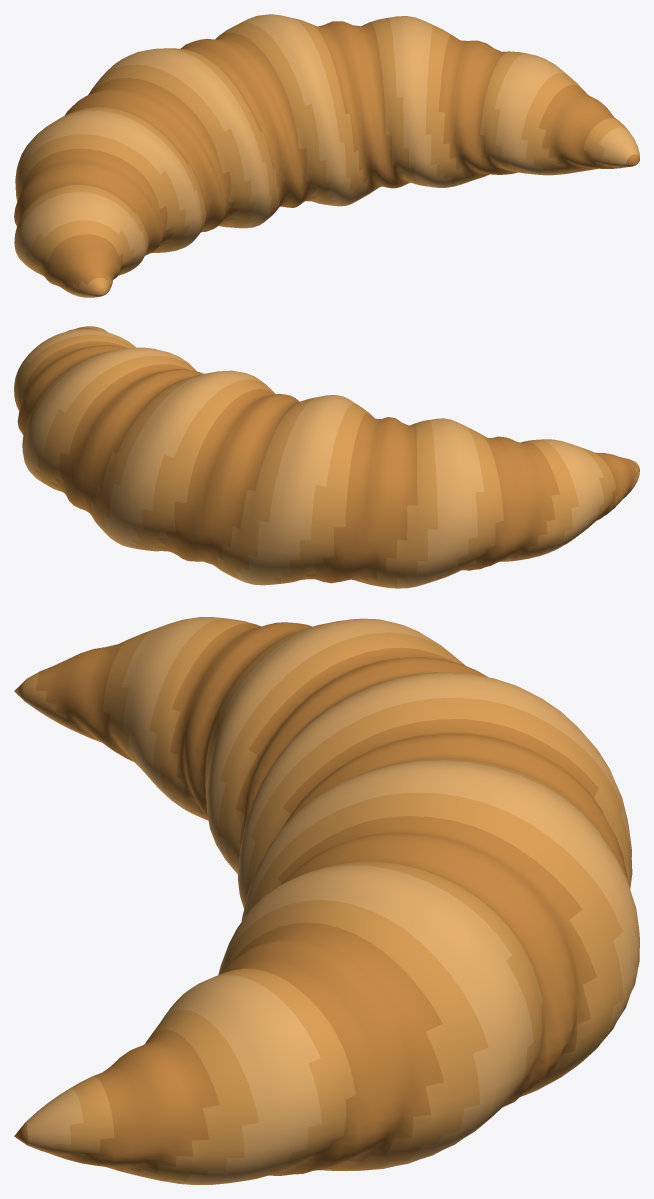
3 views of the same model, one above another, from view 1: azimuth 30°, elevation 25°; view 2: azimuth 150°, elevation 25°; view 3: azimuth 270°, elevation 25° (orthographic). The views are drawn at different scales.
Visible parts, largest first — view 1: NEW305_Croissant_LOD0; view 2: NEW305_Croissant_LOD0; view 3: NEW305_Croissant_LOD0.
Part boxes in pixels (x1=…): NEW305_Croissant_LOD0: x1=14, y1=14, x2=639, y2=297; NEW305_Croissant_LOD0: x1=14, y1=326, x2=639, y2=588; NEW305_Croissant_LOD0: x1=14, y1=617, x2=639, y2=1184.
Bounding box in the file's own units: 0.182 × 0.0532 × 0.1008.
